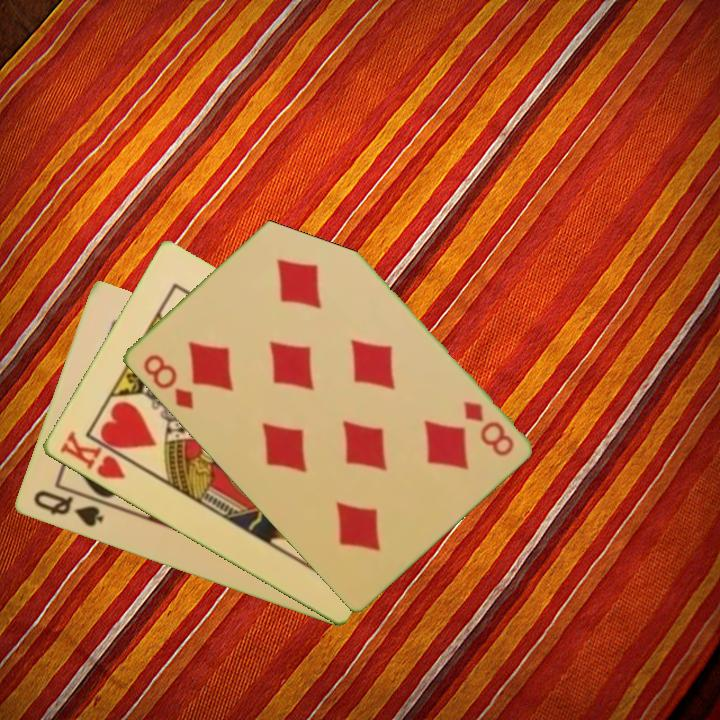8d: (459, 397, 517, 460), (139, 350, 196, 412)
Kh: (55, 428, 138, 483)
Qs: (29, 487, 106, 530)
